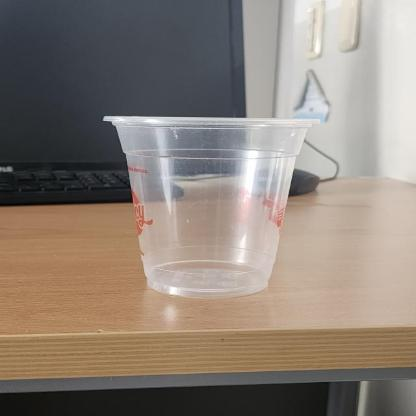Plastic Cup: (102, 114, 324, 298)
